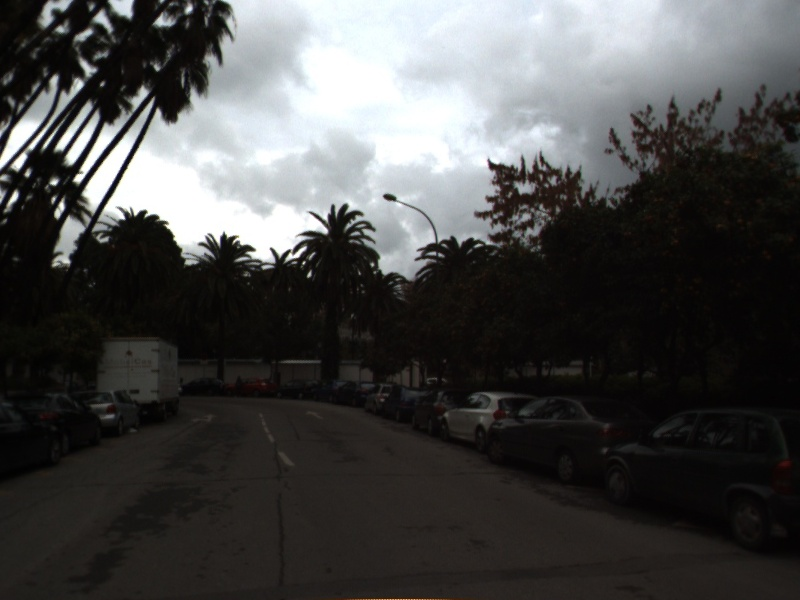STRAIGHT: (303, 409, 326, 421)
STRAIGHT_LEFT: (189, 412, 219, 425)
